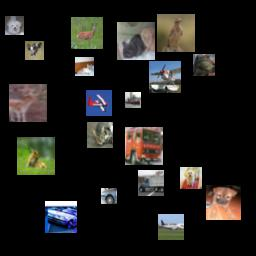airplane: (149, 61, 181, 93), (86, 90, 112, 116), (158, 214, 184, 240)
automobile: (45, 201, 77, 233), (101, 188, 117, 204)
bird: (157, 14, 195, 52)
cat: (17, 137, 55, 175), (117, 22, 155, 60), (87, 122, 113, 148), (75, 57, 94, 76)
deer: (9, 84, 47, 122), (71, 17, 103, 49)
dog: (206, 185, 241, 220), (180, 167, 202, 189), (5, 16, 24, 35), (25, 41, 44, 60)
frog: (193, 54, 215, 76)
ship: (125, 92, 141, 108)
truck: (125, 127, 163, 165), (138, 170, 164, 196)
